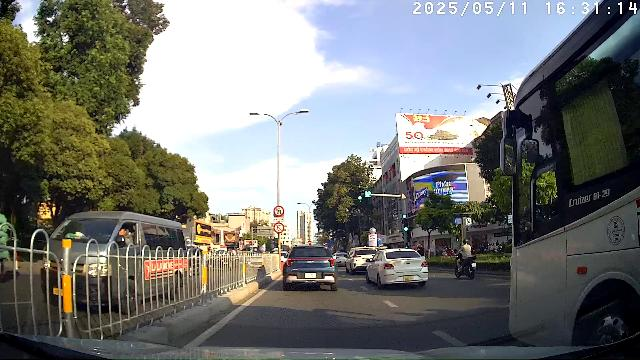103b-cam-oto-re-phai: (274, 222, 284, 233)
